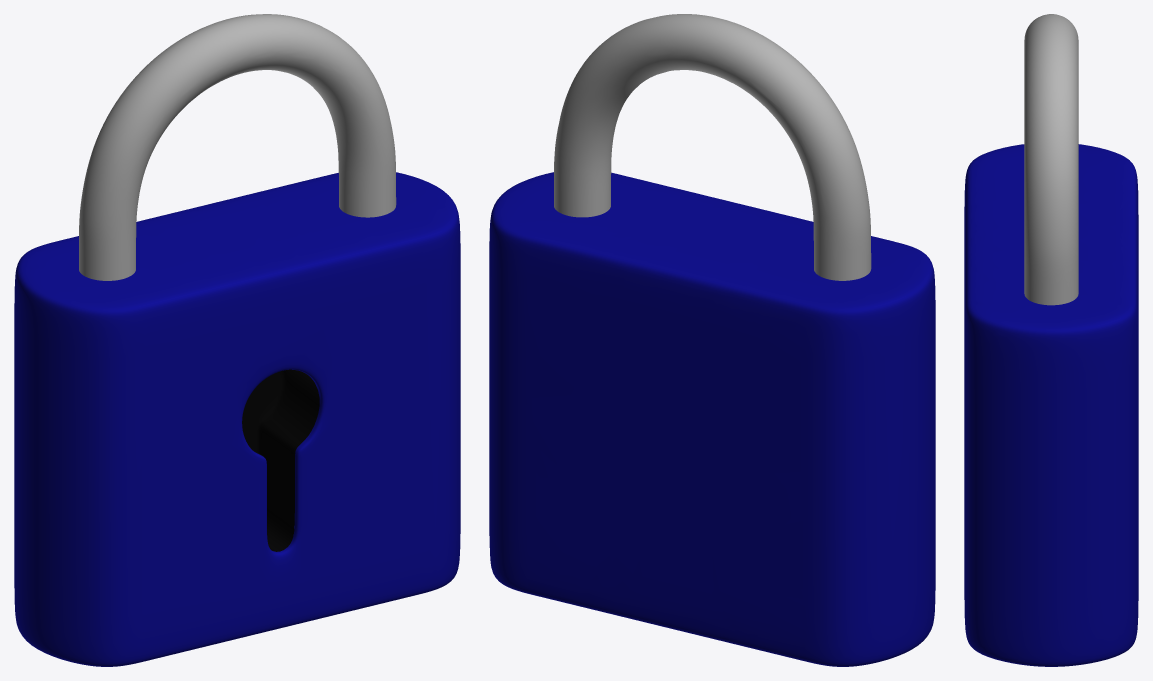
File: lock.glb
3 renders of one model, left to right at view 1: azimuth 30°, elevation 25°; view 2: azimuth 150°, elevation 25°; view 3: azimuth 270°, elevation 25°, orthographic. The views are drawn at different scales.
Parts seen in each view (by area): view 1: Cube.038; view 2: Cube.038; view 3: Cube.038.
Part boxes in pixels (x1,y1,x2,y2): Cube.038: [14, 14, 460, 666]; Cube.038: [489, 14, 935, 666]; Cube.038: [964, 14, 1138, 666].
Bounding box in the file's own units: 1.44 × 1.9 × 0.5503.
